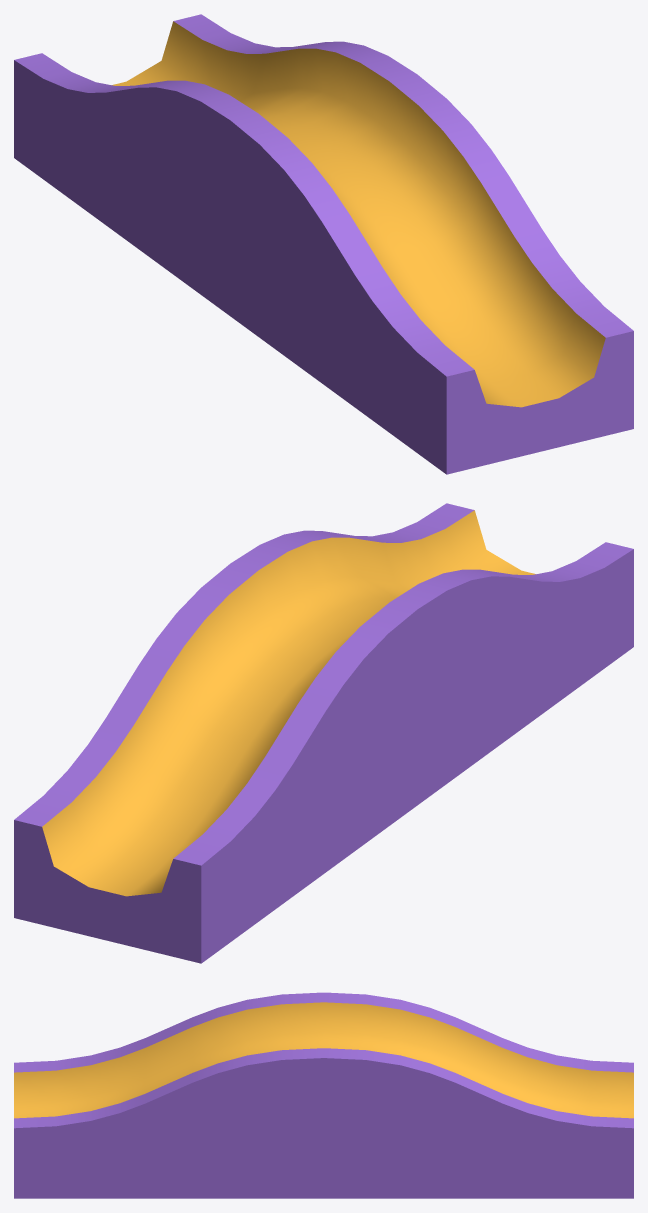
File: kenney-marble-bump-solid-b.glb
3 renders of one model, top to bottom at view 1: azimuth 30°, elevation 25°; view 2: azimuth 150°, elevation 25°; view 3: azimuth 270°, elevation 25°, orthographic. The views are drawn at different scales.
Visible parts, largest first — view 1: bump-solid-b; view 2: bump-solid-b; view 3: bump-solid-b.
Part boxes in pixels (x1,y1,x2,y2): bump-solid-b: [14, 14, 633, 474]; bump-solid-b: [14, 503, 633, 963]; bump-solid-b: [14, 992, 633, 1198].
Size of the model in its own units: 1 by 1 by 4.
1 material, 1 textured.
